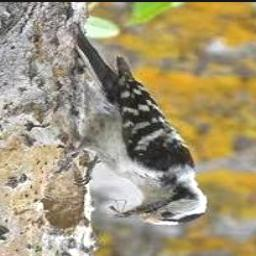Woodpecker: (74, 29, 208, 226)
